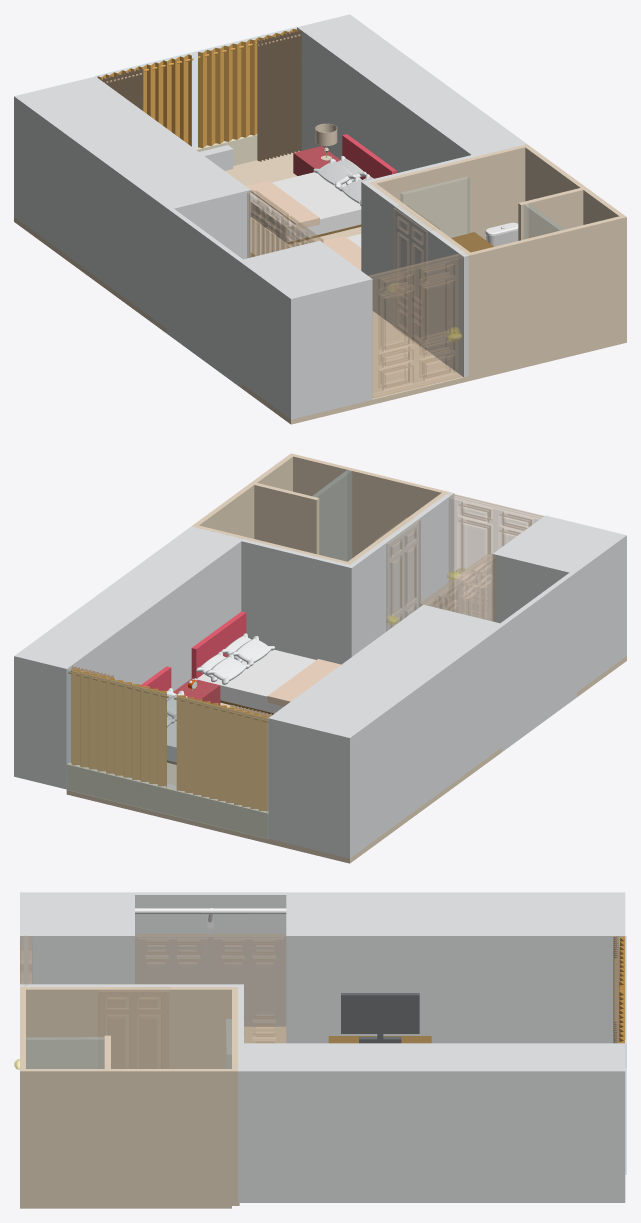
The model's file is room414.glb.
The picture shows the model from 3 angles, top to bottom: view 1: azimuth 30°, elevation 25°; view 2: azimuth 150°, elevation 25°; view 3: azimuth 270°, elevation 25°; orthographic projection. The views are drawn at different scales.
Parts seen in each view (by area): view 1: g group_57_14541540, g group_58_14541540, g group_55_14541540, g group_52_14860437, g group_2_14541540, g group_69_-1029080240, g group_39_14541540, g group_0_14860437, g group_3_14860437, g group_34_16089887, g group_28_11107152, g group_14_16448250 (+20 smaller); view 2: g group_57_14541540, g group_55_14541540, g group_32_-1028593425, g group_58_14541540, g group_1_14541540, g group_2_14541540, g group_39_14541540, g group_34_16089887, g group_33_16089887, g group_52_14860437, g group_27_16311991, g group_69_-1029080240 (+13 smaller); view 3: g group_55_14541540, g group_57_14541540, g group_46_14860437, g group_4_14860437, g group_39_14541540, g group_58_14541540, g group_63_-1029080240, g group_66_-1029080240, g group_60_-1029080240, g group_37_2829873, g group_59_-1028593425, g group_3_14860437 (+8 smaller).
Boxes of the visible parts, box(x1,y1,x2,y2) form: g group_57_14541540: box(14, 76, 250, 329); g group_58_14541540: box(238, 240, 372, 419); g group_55_14541540: box(297, 14, 526, 172); g group_52_14860437: box(471, 216, 622, 374); g group_2_14541540: box(364, 183, 468, 377); g group_69_-1029080240: box(368, 254, 463, 398); g group_39_14541540: box(166, 207, 245, 387); g group_0_14860437: box(14, 150, 574, 424); g group_3_14860437: box(369, 144, 529, 240); g group_34_16089887: box(198, 28, 297, 148); g group_28_11107152: box(257, 30, 301, 161); g group_14_16448250: box(250, 172, 361, 242); g group_57_14541540: box(268, 604, 502, 858); g group_55_14541540: box(14, 526, 243, 789); g group_32_-1028593425: box(66, 669, 267, 838); g group_58_14541540: box(492, 515, 626, 693); g group_1_14541540: box(241, 539, 354, 664); g group_2_14541540: box(350, 492, 454, 654); g group_39_14541540: box(498, 572, 576, 751); g group_34_16089887: box(68, 668, 169, 787); g group_33_16089887: box(174, 693, 268, 812); g group_52_14860437: box(293, 454, 444, 561); g group_27_16311991: box(66, 762, 268, 838); g group_69_-1029080240: box(449, 494, 543, 620); g group_55_14541540: box(238, 1043, 625, 1202); g group_57_14541540: box(286, 892, 625, 1043); g group_46_14860437: box(20, 1069, 231, 1208); g group_4_14860437: box(20, 987, 231, 1068); g group_39_14541540: box(129, 892, 292, 1026); g group_58_14541540: box(20, 892, 134, 984); g group_63_-1029080240: box(211, 934, 285, 1043); g group_66_-1029080240: box(98, 987, 170, 1068); g group_60_-1029080240: box(135, 934, 210, 983); g group_37_2829873: box(341, 993, 419, 1033); g group_59_-1028593425: box(26, 1037, 104, 1068); g group_3_14860437: box(232, 987, 237, 1204).
Bounding box in the file's own units: 70 × 25 × 101.
